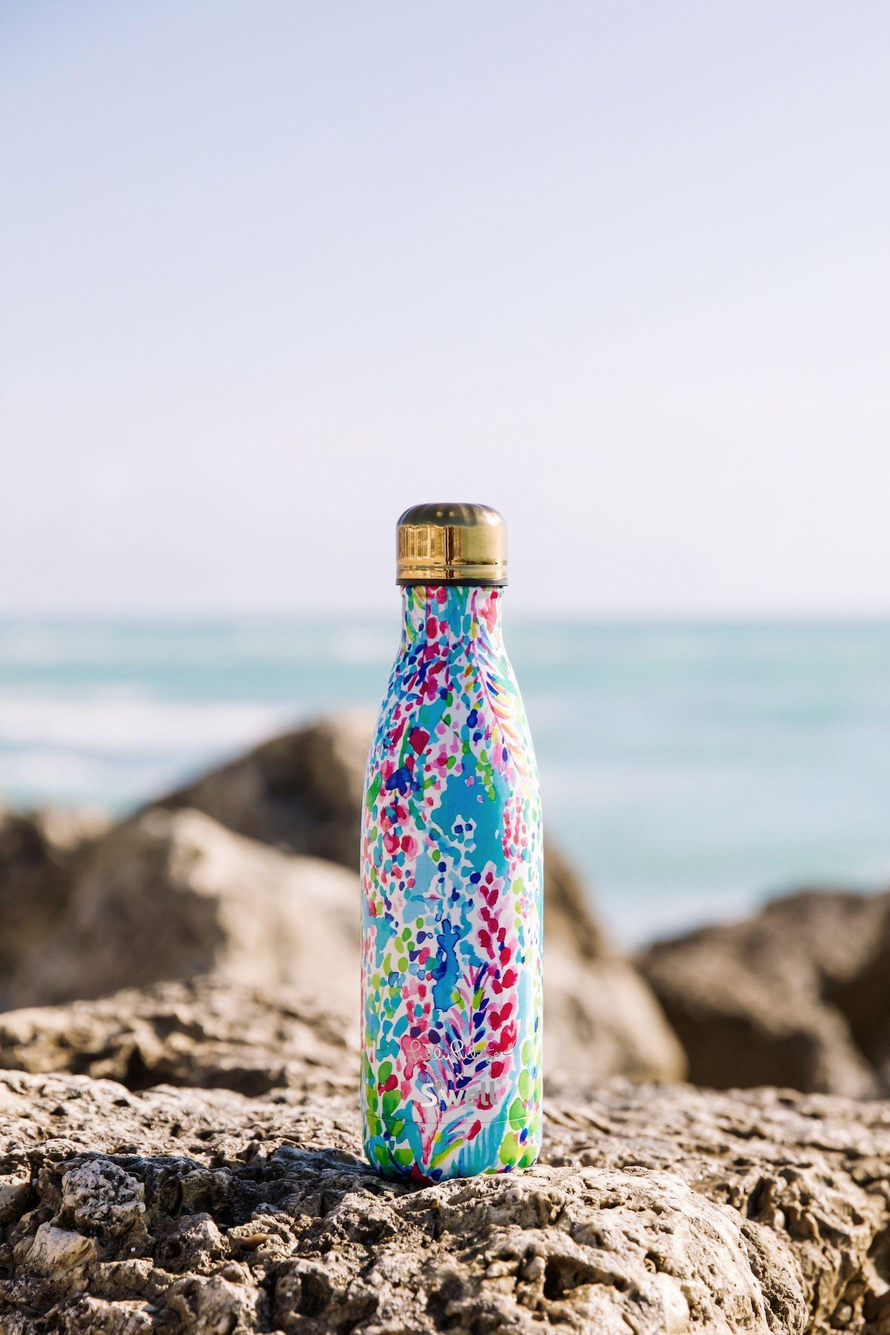gym bottle: (348, 495, 552, 1189)
